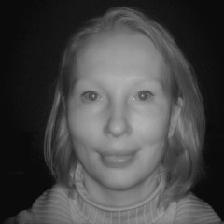happy: (36, 5, 209, 197)
